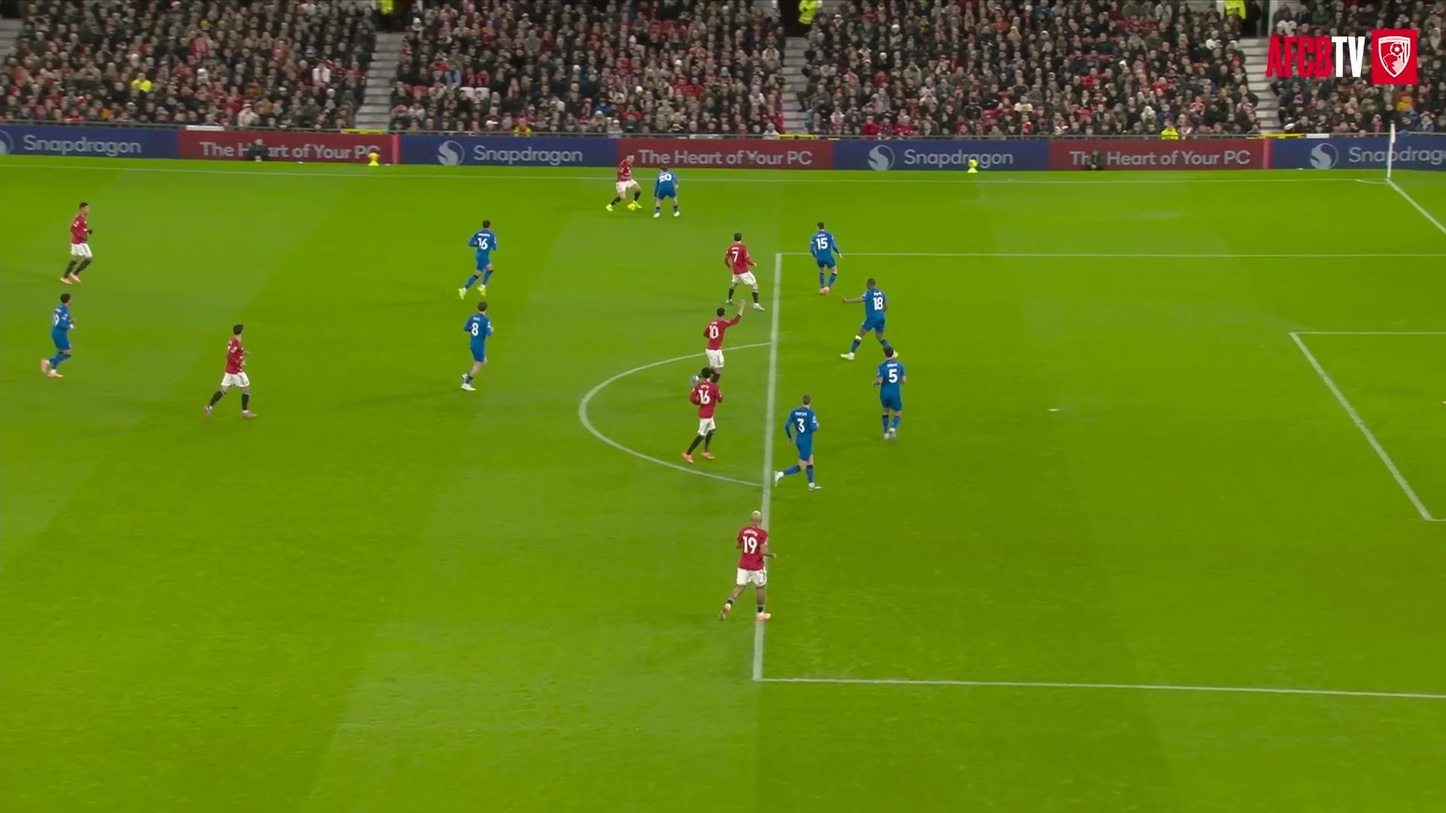football: (623, 202, 641, 215)
player: (719, 510, 775, 620), (205, 324, 256, 418), (773, 395, 820, 490), (841, 278, 891, 359), (682, 367, 722, 462), (459, 219, 497, 298), (874, 347, 906, 440), (725, 233, 763, 309), (461, 300, 493, 390), (41, 293, 74, 377), (703, 308, 743, 376), (60, 202, 92, 284), (809, 222, 841, 294), (606, 154, 640, 211), (654, 166, 680, 218)
